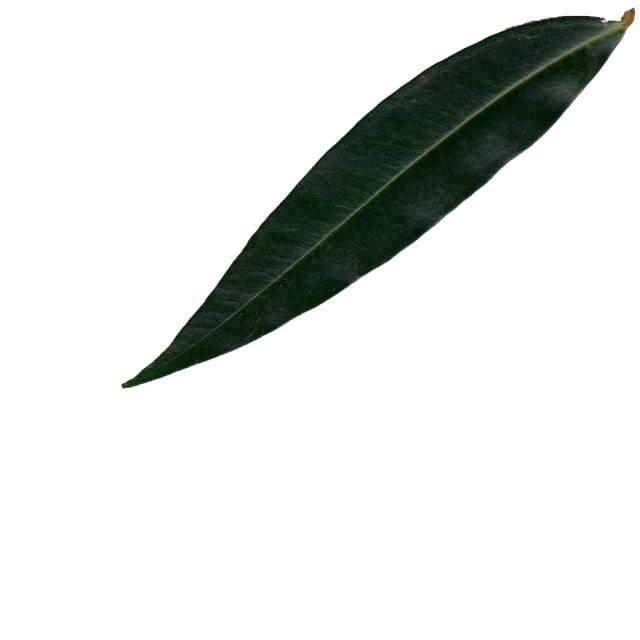Medicinal-Rose Apple: (122, 2, 636, 390)
